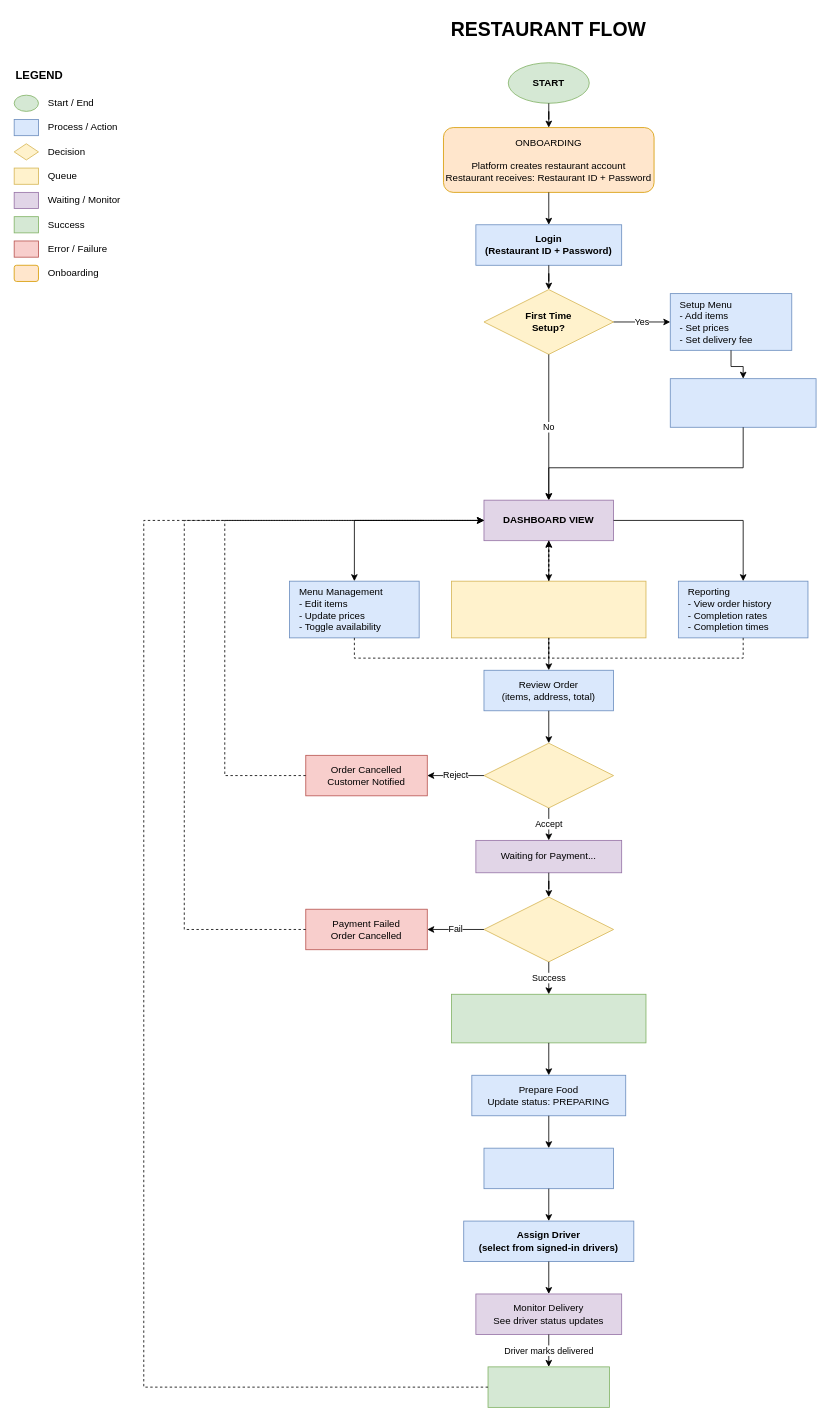
This 830x1422 diagram has some shape labels left out. The centre of each missing label's shape, as x and y in pixels:
Accept or Reject?: (x=548, y=775)
INCOMING QUEUE Orders awaiting accept/reject (FIFO - First In, First Out): (x=548, y=609)
Mark Ready Food is prepared: (x=548, y=1168)
Onboard Drivers - Create driver accounts - Assign Driver ID + Password: (x=742, y=402)
Order Complete: (x=548, y=1386)
Payment Success?: (x=548, y=929)
PREPARATION QUEUE Accepted orders being prepared: (x=548, y=1018)
